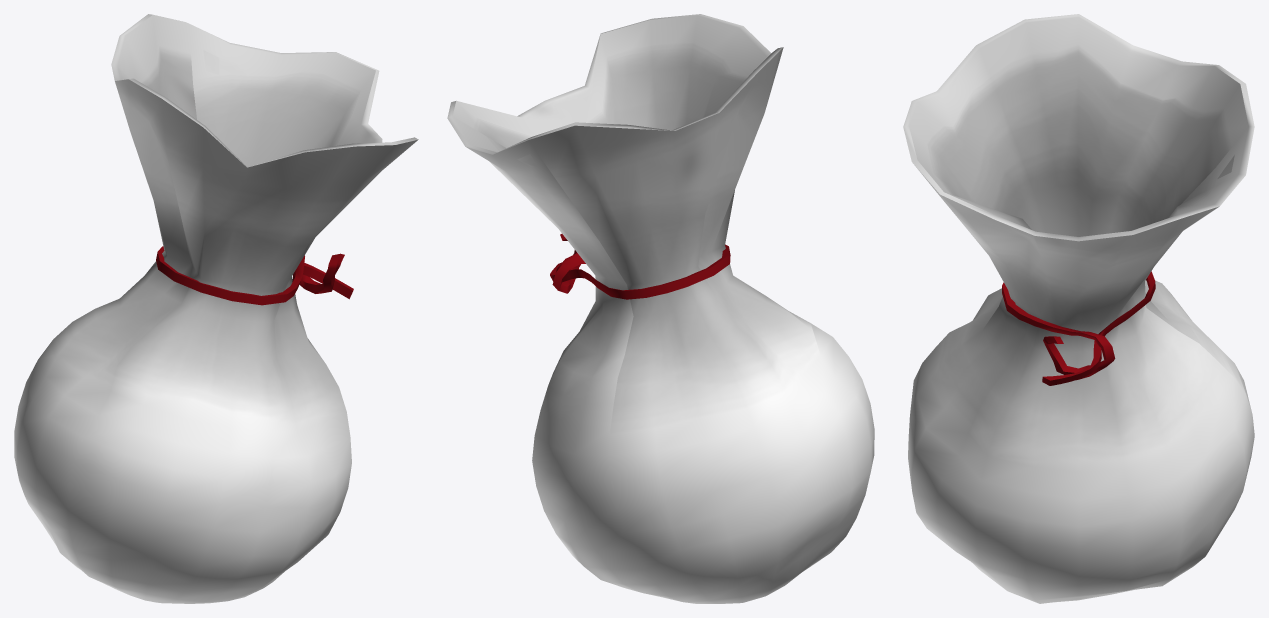
The model's file is pollo.fbx.
3 views of the same model, side by side, from view 1: azimuth 30°, elevation 25°; view 2: azimuth 150°, elevation 25°; view 3: azimuth 270°, elevation 25° (orthographic). The views are drawn at different scales.
Parts seen in each view (by area): view 1: pollo; view 2: pollo; view 3: pollo.
Part boxes in pixels (bbox=[...]): pollo: bbox=[14, 14, 418, 603]; pollo: bbox=[447, 14, 874, 603]; pollo: bbox=[903, 14, 1254, 603].
Bounding box in the file's own units: 4.75 × 6.4 × 3.78.
